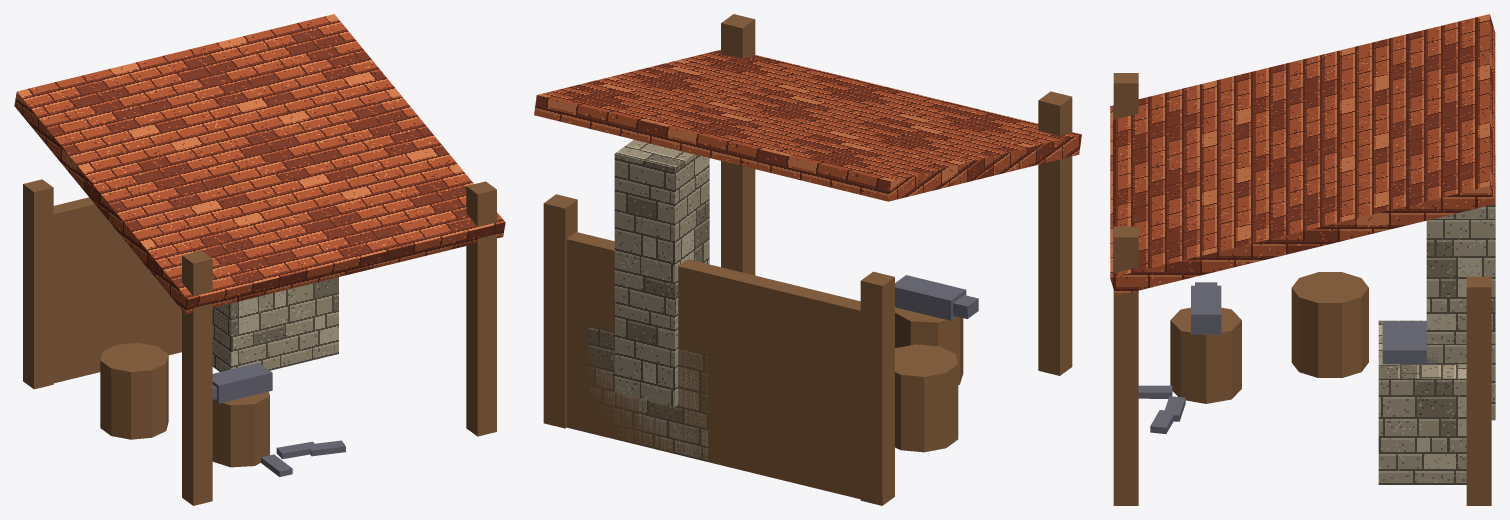
Rendered from smithy_t1.glb.
3 views of the same model, side by side, from view 1: azimuth 30°, elevation 25°; view 2: azimuth 150°, elevation 25°; view 3: azimuth 270°, elevation 25° (orthographic). The views are drawn at different scales.
Visible parts, largest first — view 1: slanted_roof, back_wall, forge, post_0, post_1, post_2, quench_barrel, anvil_block, anvil_body; view 2: back_wall, slanted_roof, chimney, post_0, post_2, forge, quench_barrel, post_3, post_1, anvil_block, anvil_body; view 3: slanted_roof, forge, chimney, quench_barrel, post_1, post_3, anvil_block, forge_hearth, anvil_body, post_0, offcut_2, offcut_0.
Boxes of the visible parts, x1,y1,x2,y2 form: slanted_roof: (14,14,505,314); back_wall: (53,197,181,383); forge: (212,277,338,371); post_0: (182,251,212,505); post_1: (466,181,496,436); post_2: (23,179,53,389); quench_barrel: (100,343,168,439); anvil_block: (212,391,269,467); anvil_body: (212,362,272,403); back_wall: (566,232,860,499); slanted_roof: (534,49,1081,201); chimney: (614,139,709,406); post_0: (1038,91,1072,375); post_2: (860,271,894,505); forge: (588,326,708,461); quench_barrel: (895,344,958,452); post_3: (543,194,577,428); post_1: (721,14,755,275); anvil_block: (895,307,963,384); anvil_body: (895,275,966,320); slanted_roof: (1110,14,1495,295); forge: (1378,320,1466,484); chimney: (1426,154,1495,420); quench_barrel: (1291,272,1368,377); post_1: (1113,226,1138,505); post_3: (1466,276,1491,505); anvil_block: (1170,307,1241,403); forge_hearth: (1382,321,1437,364); anvil_body: (1191,285,1221,334); post_0: (1113,73,1138,119); offcut_2: (1138,385,1172,398); offcut_0: (1150,410,1175,433).
Size of what is drawn, in the model's own units: 2.95 by 2.59 by 2.8.
Materials: 4 (2 with a texture image).
